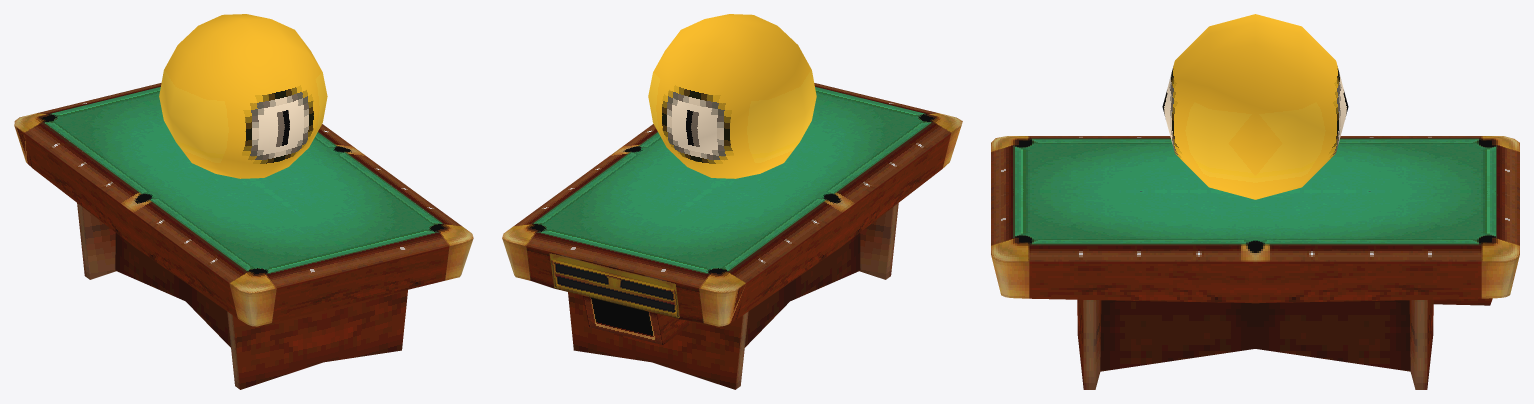
The model's file is ps2_save-icons_superlite2000vol27mezasesuperhustler.glb.
3 views of the same model, side by side, from view 1: azimuth 30°, elevation 25°; view 2: azimuth 150°, elevation 25°; view 3: azimuth 270°, elevation 25° (orthographic). The views are drawn at different scales.
Parts seen in each view (by area): view 1: icon.ico; view 2: icon.ico; view 3: icon.ico.
Part boxes in pixels (<box>): icon.ico: <box>14,14,473,389</box>; icon.ico: <box>502,14,962,389</box>; icon.ico: <box>991,14,1519,389</box>.
Size of the model in its own units: 2.72 by 3.28 by 4.85.
Materials: 1 (1 with a texture image).
